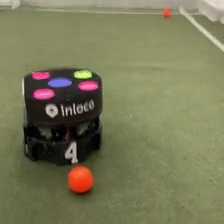ball: (66, 163, 95, 195), (162, 6, 171, 17)
robot: (19, 64, 105, 166)
